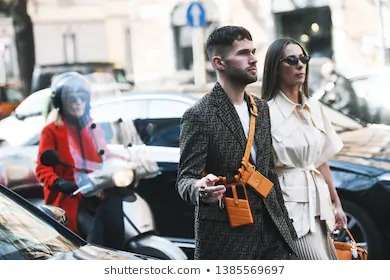F_M_suit jacket: (174, 81, 304, 258)
